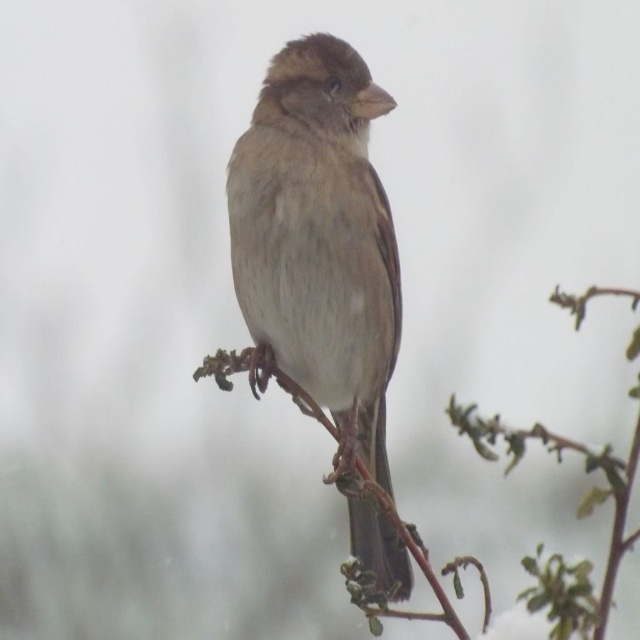Sparrow: (224, 30, 415, 604)
